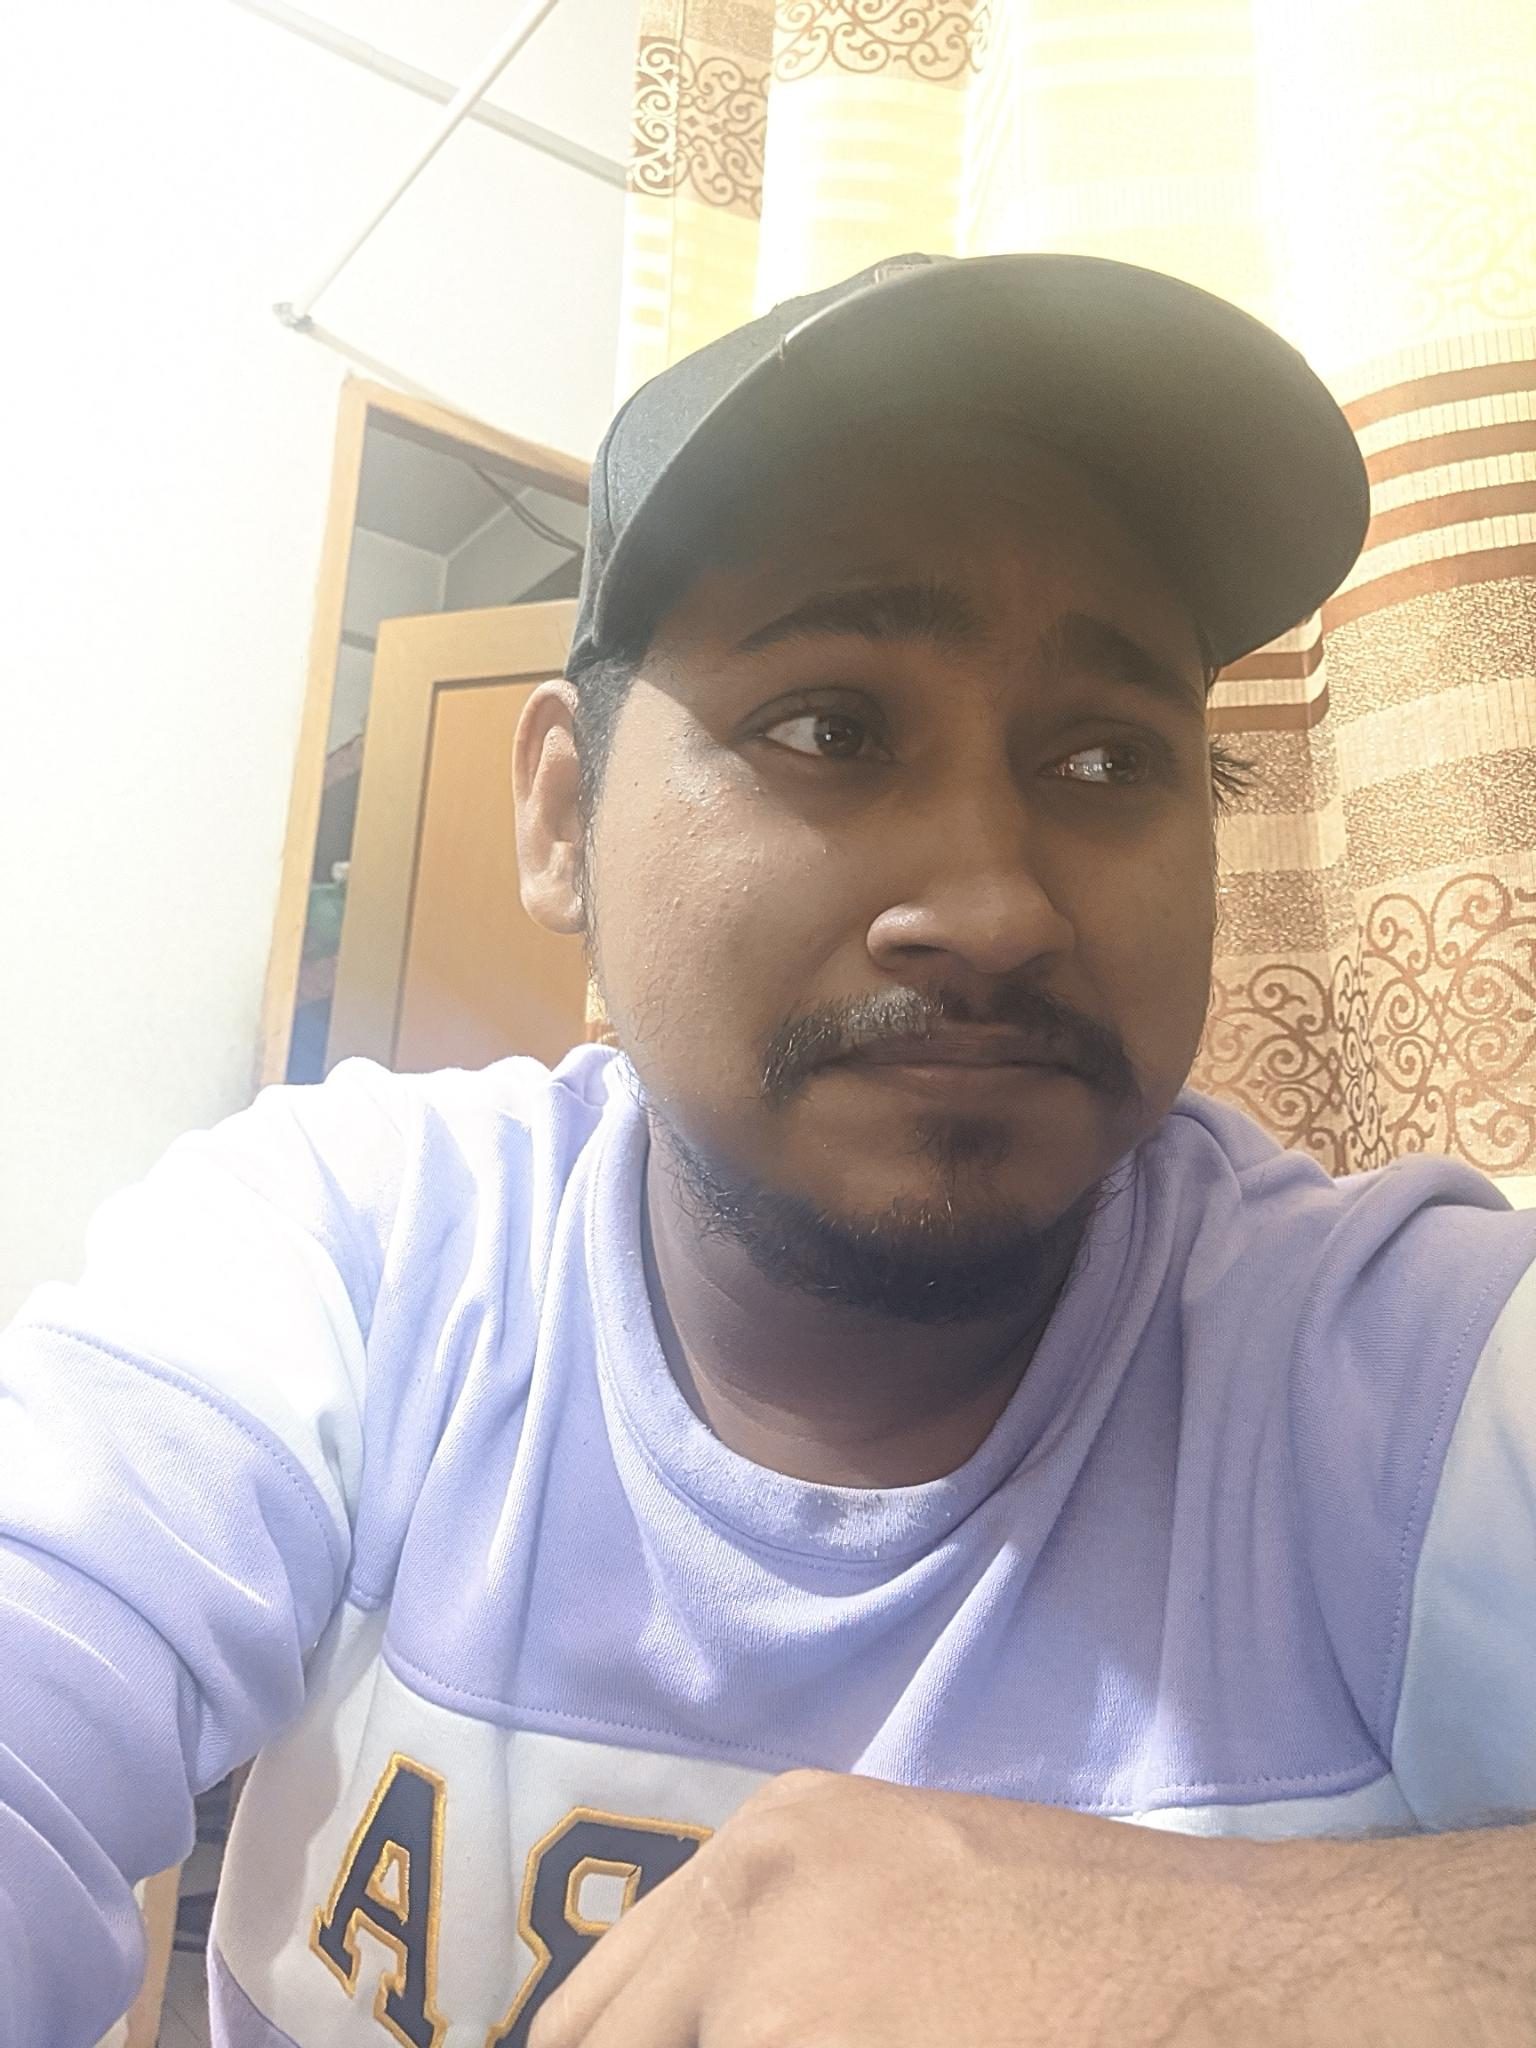Sad: (673, 498, 1262, 1269)
